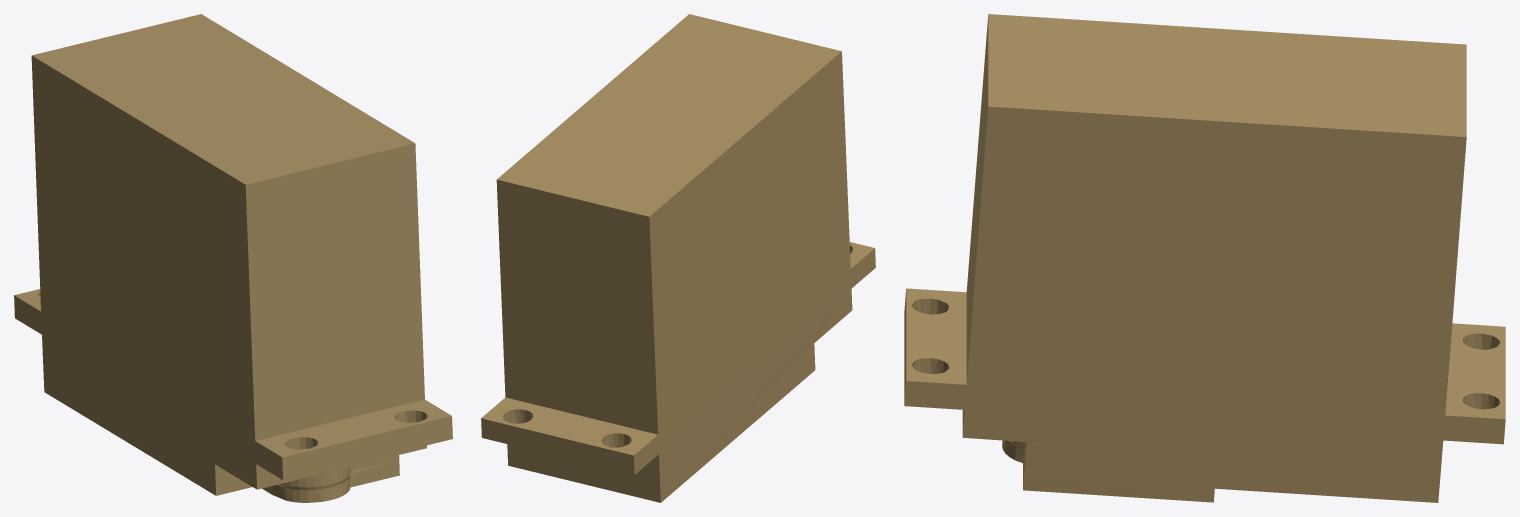
Rendered from right_shoulder_y_link_visual_1.obj.light.glb.
The picture shows the model from 3 angles, left to right: view 1: azimuth 30°, elevation 25°; view 2: azimuth 150°, elevation 25°; view 3: azimuth 270°, elevation 25°; orthographic projection. The views are drawn at different scales.
Bounding box in the file's own units: 0.2829 × 0.5644 × 0.7761.
